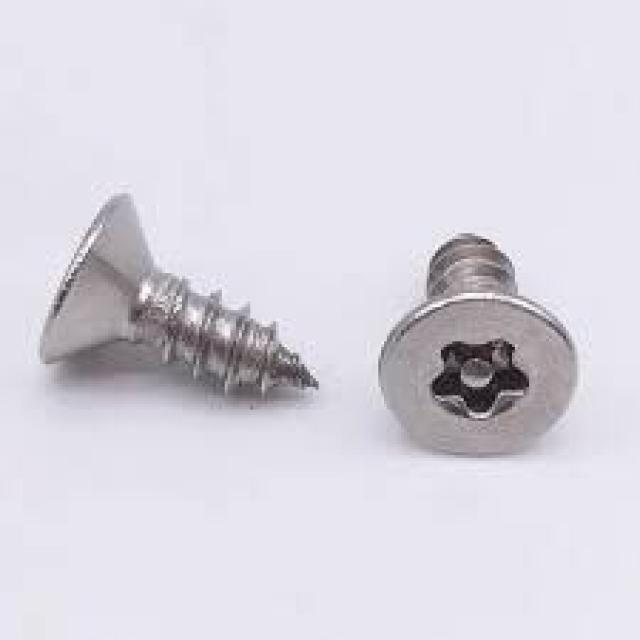Torx: (378, 294, 578, 458)
